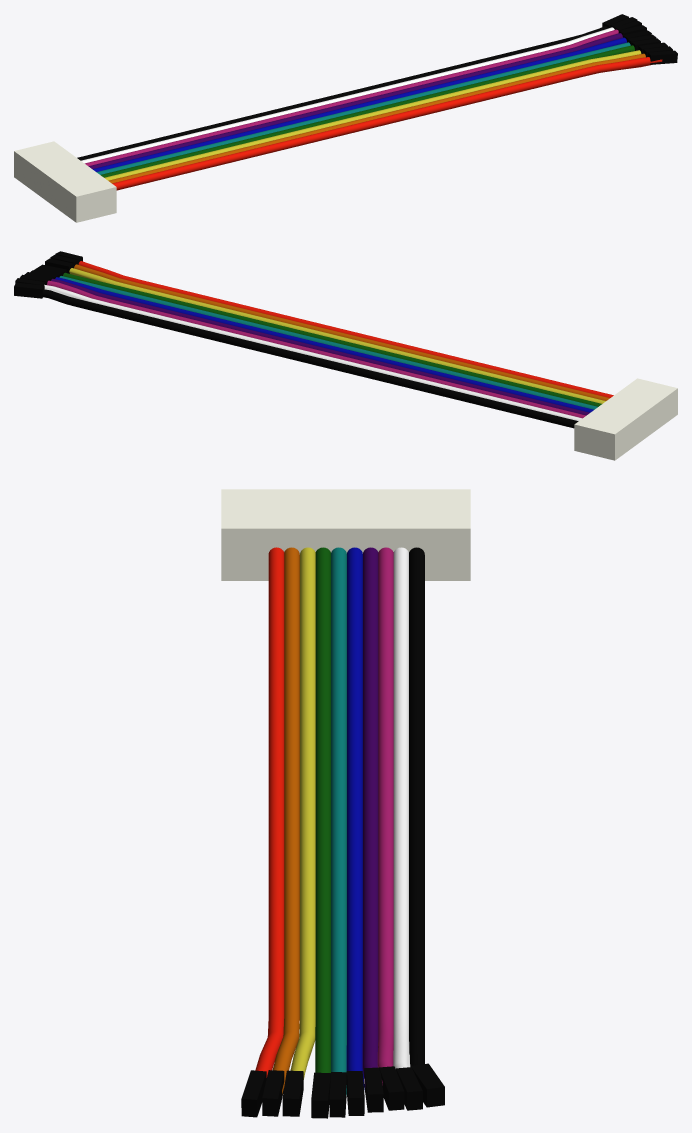
The model's file is Elaine's rainbow cable.obj.
3 views of the same model, one above another, from view 1: azimuth 30°, elevation 25°; view 2: azimuth 150°, elevation 25°; view 3: azimuth 270°, elevation 25° (orthographic). The views are drawn at different scales.
Parts seen in each view (by area): view 1: group2_pasted__group_pasted__pasted__pCylinder1; view 2: group2_pasted__group_pasted__pasted__pCylinder1; view 3: group2_pasted__group_pasted__pasted__pCylinder1.
Boxes of the visible parts, box(x1,y1,x2,y2) form: group2_pasted__group_pasted__pasted__pCylinder1: box(14, 14, 677, 222); group2_pasted__group_pasted__pasted__pCylinder1: box(14, 251, 677, 460); group2_pasted__group_pasted__pasted__pCylinder1: box(221, 489, 470, 1118).
Bounding box in the file's own units: 24.35 × 1 × 4.33.
